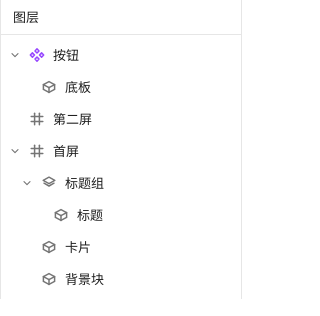
Test: 图层面板 · 树渲染（Tree 接入） › 展开/收起：点箭头后子行消失，折叠集进 UI store，再点回来
Click the button with class "dfg-tree__toggle" next to "首屏" at (15, 151), box left=9, top=145, right=21, bottom=157
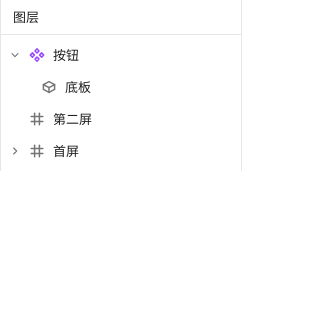
expect the text "标题组" is gone: met
Click the button with class "dfg-tree__toggle" next to "首屏" at (15, 151), box left=9, top=145, right=21, bottom=157
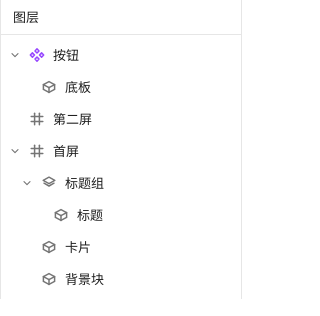
expect the list item "标题组" is shown: met, box left=21, top=173, right=104, bottom=192
